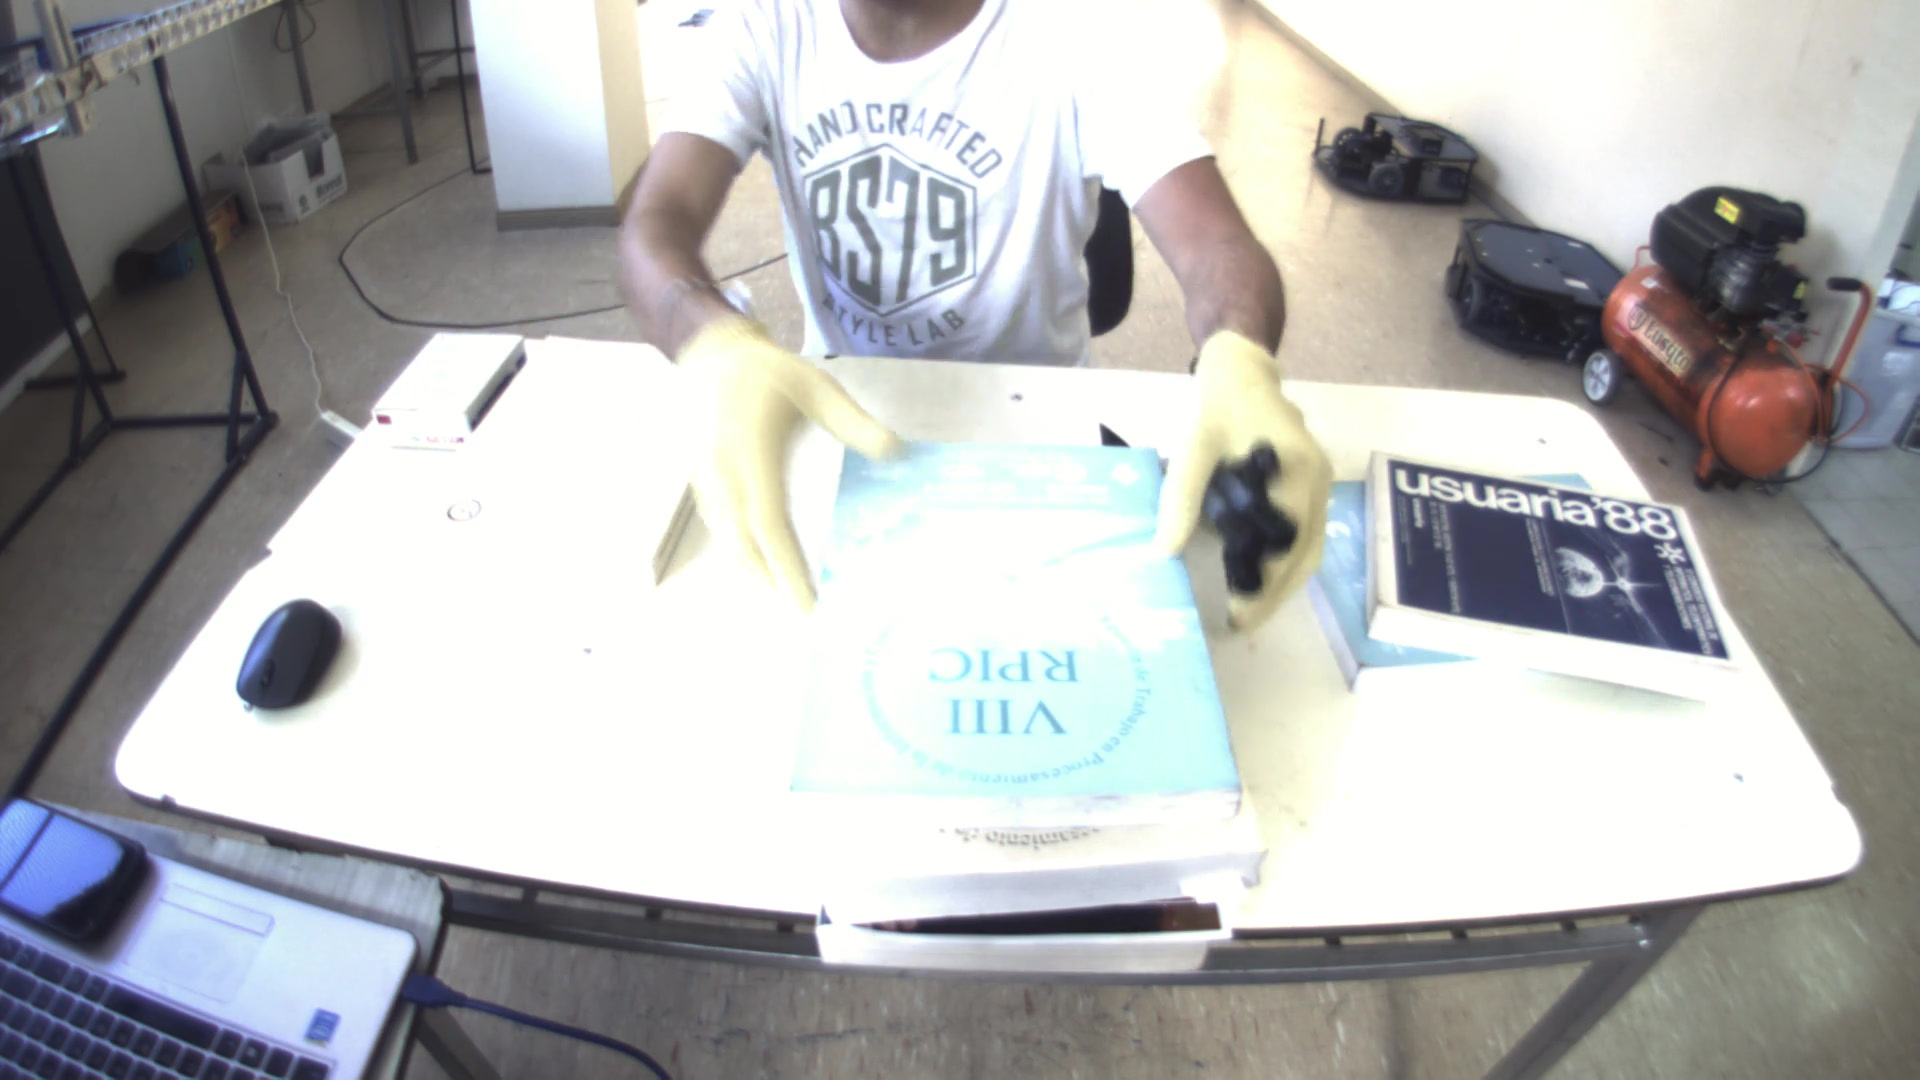hand: (673, 295, 899, 615), (1168, 316, 1354, 640)
